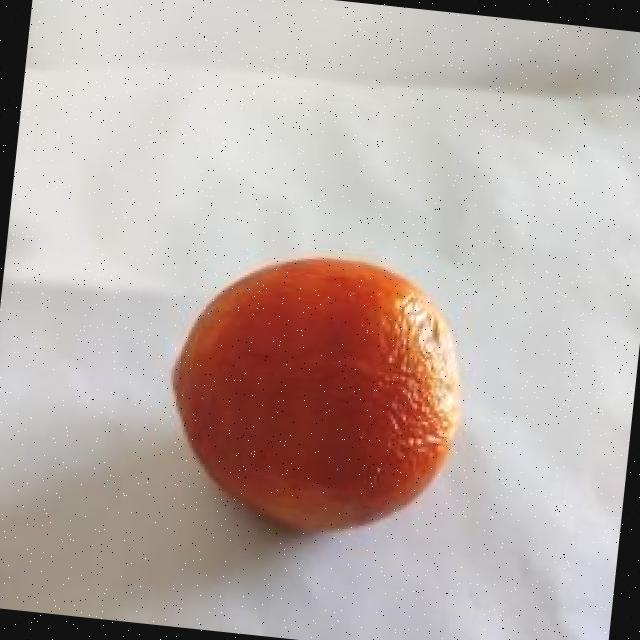overripe: (158, 236, 480, 549)
